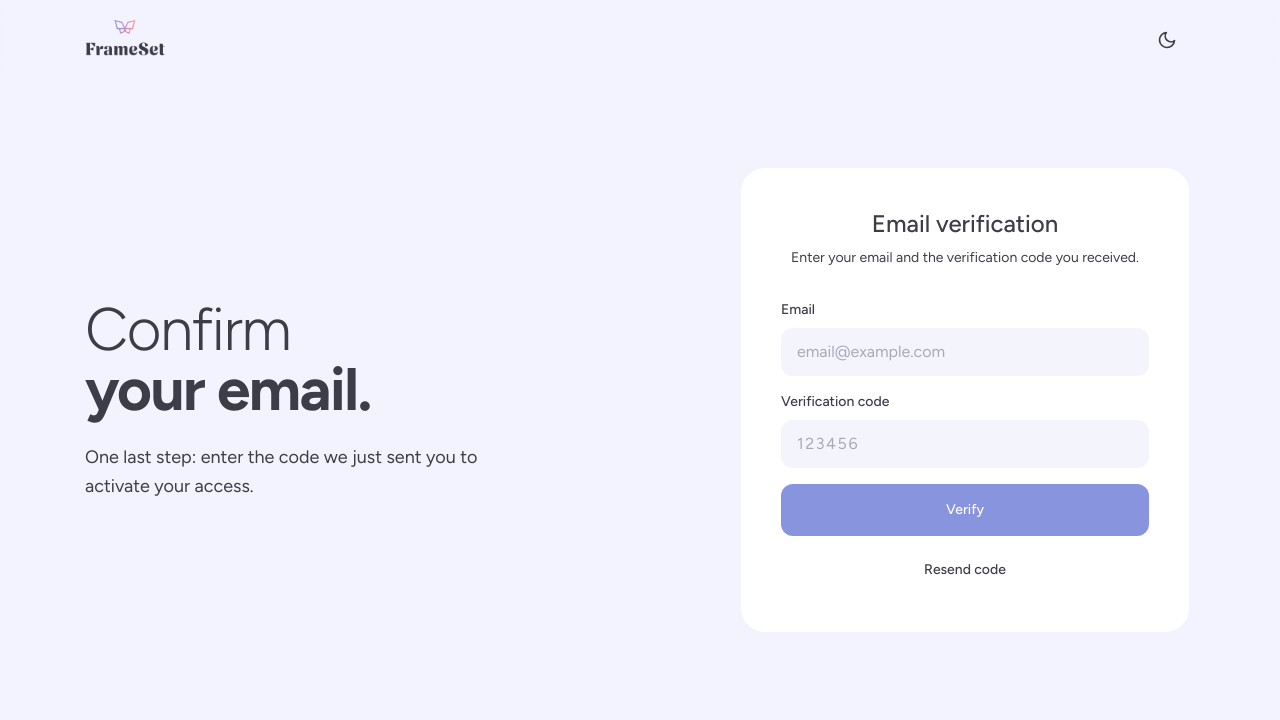
Test: Verify › accepts a manually typed email and resends to it
In the field with placeholder "email@example.com": (965, 352) [781,328,1149,376], type "axelle@example.com"
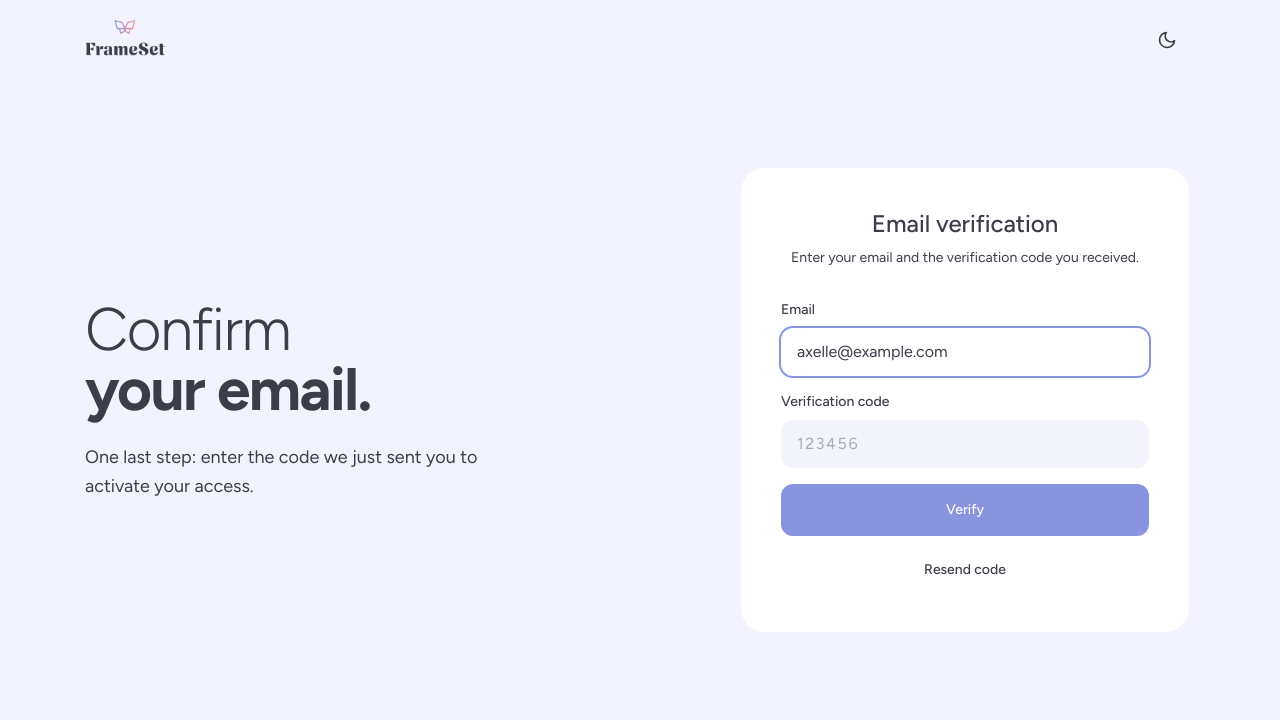
Click the button "Resend code": (965, 570) [781,548,1149,592]
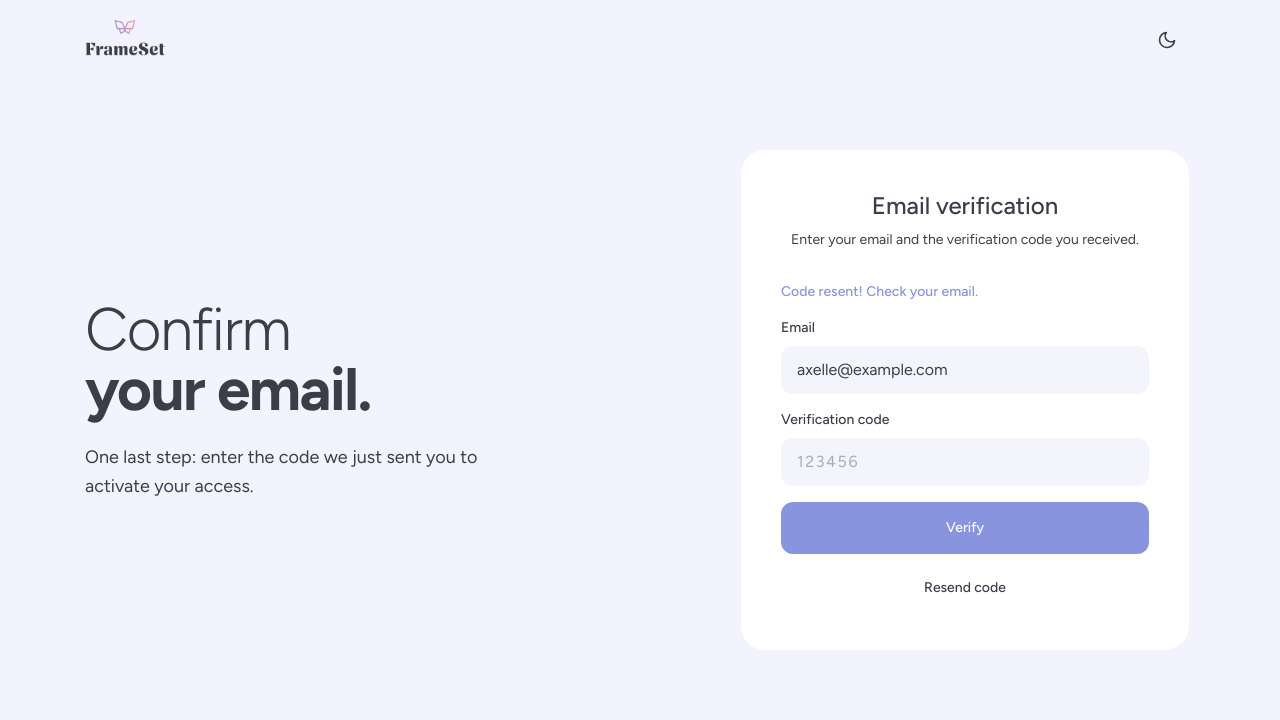
Check: the text "Code resent! Check your email." is shown, box [781,283,978,300]
